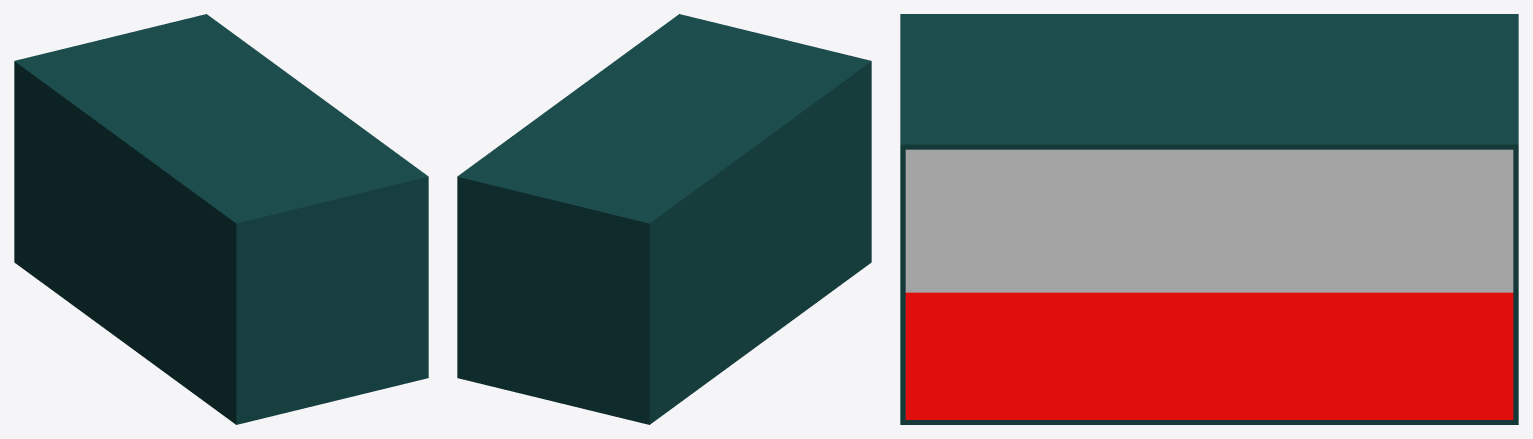
3 views of the same model, side by side, from view 1: azimuth 30°, elevation 25°; view 2: azimuth 150°, elevation 25°; view 3: azimuth 270°, elevation 25° (orthographic). The views are drawn at different scales.
Visible parts, largest first — view 1: normal1; view 2: normal1; view 3: normal1.
Part boxes in pixels (bbox=[...]): normal1: bbox=[14, 14, 428, 424]; normal1: bbox=[457, 14, 871, 424]; normal1: bbox=[900, 14, 1518, 424].
Size of the model in its own units: 400 by 400 by 800.
